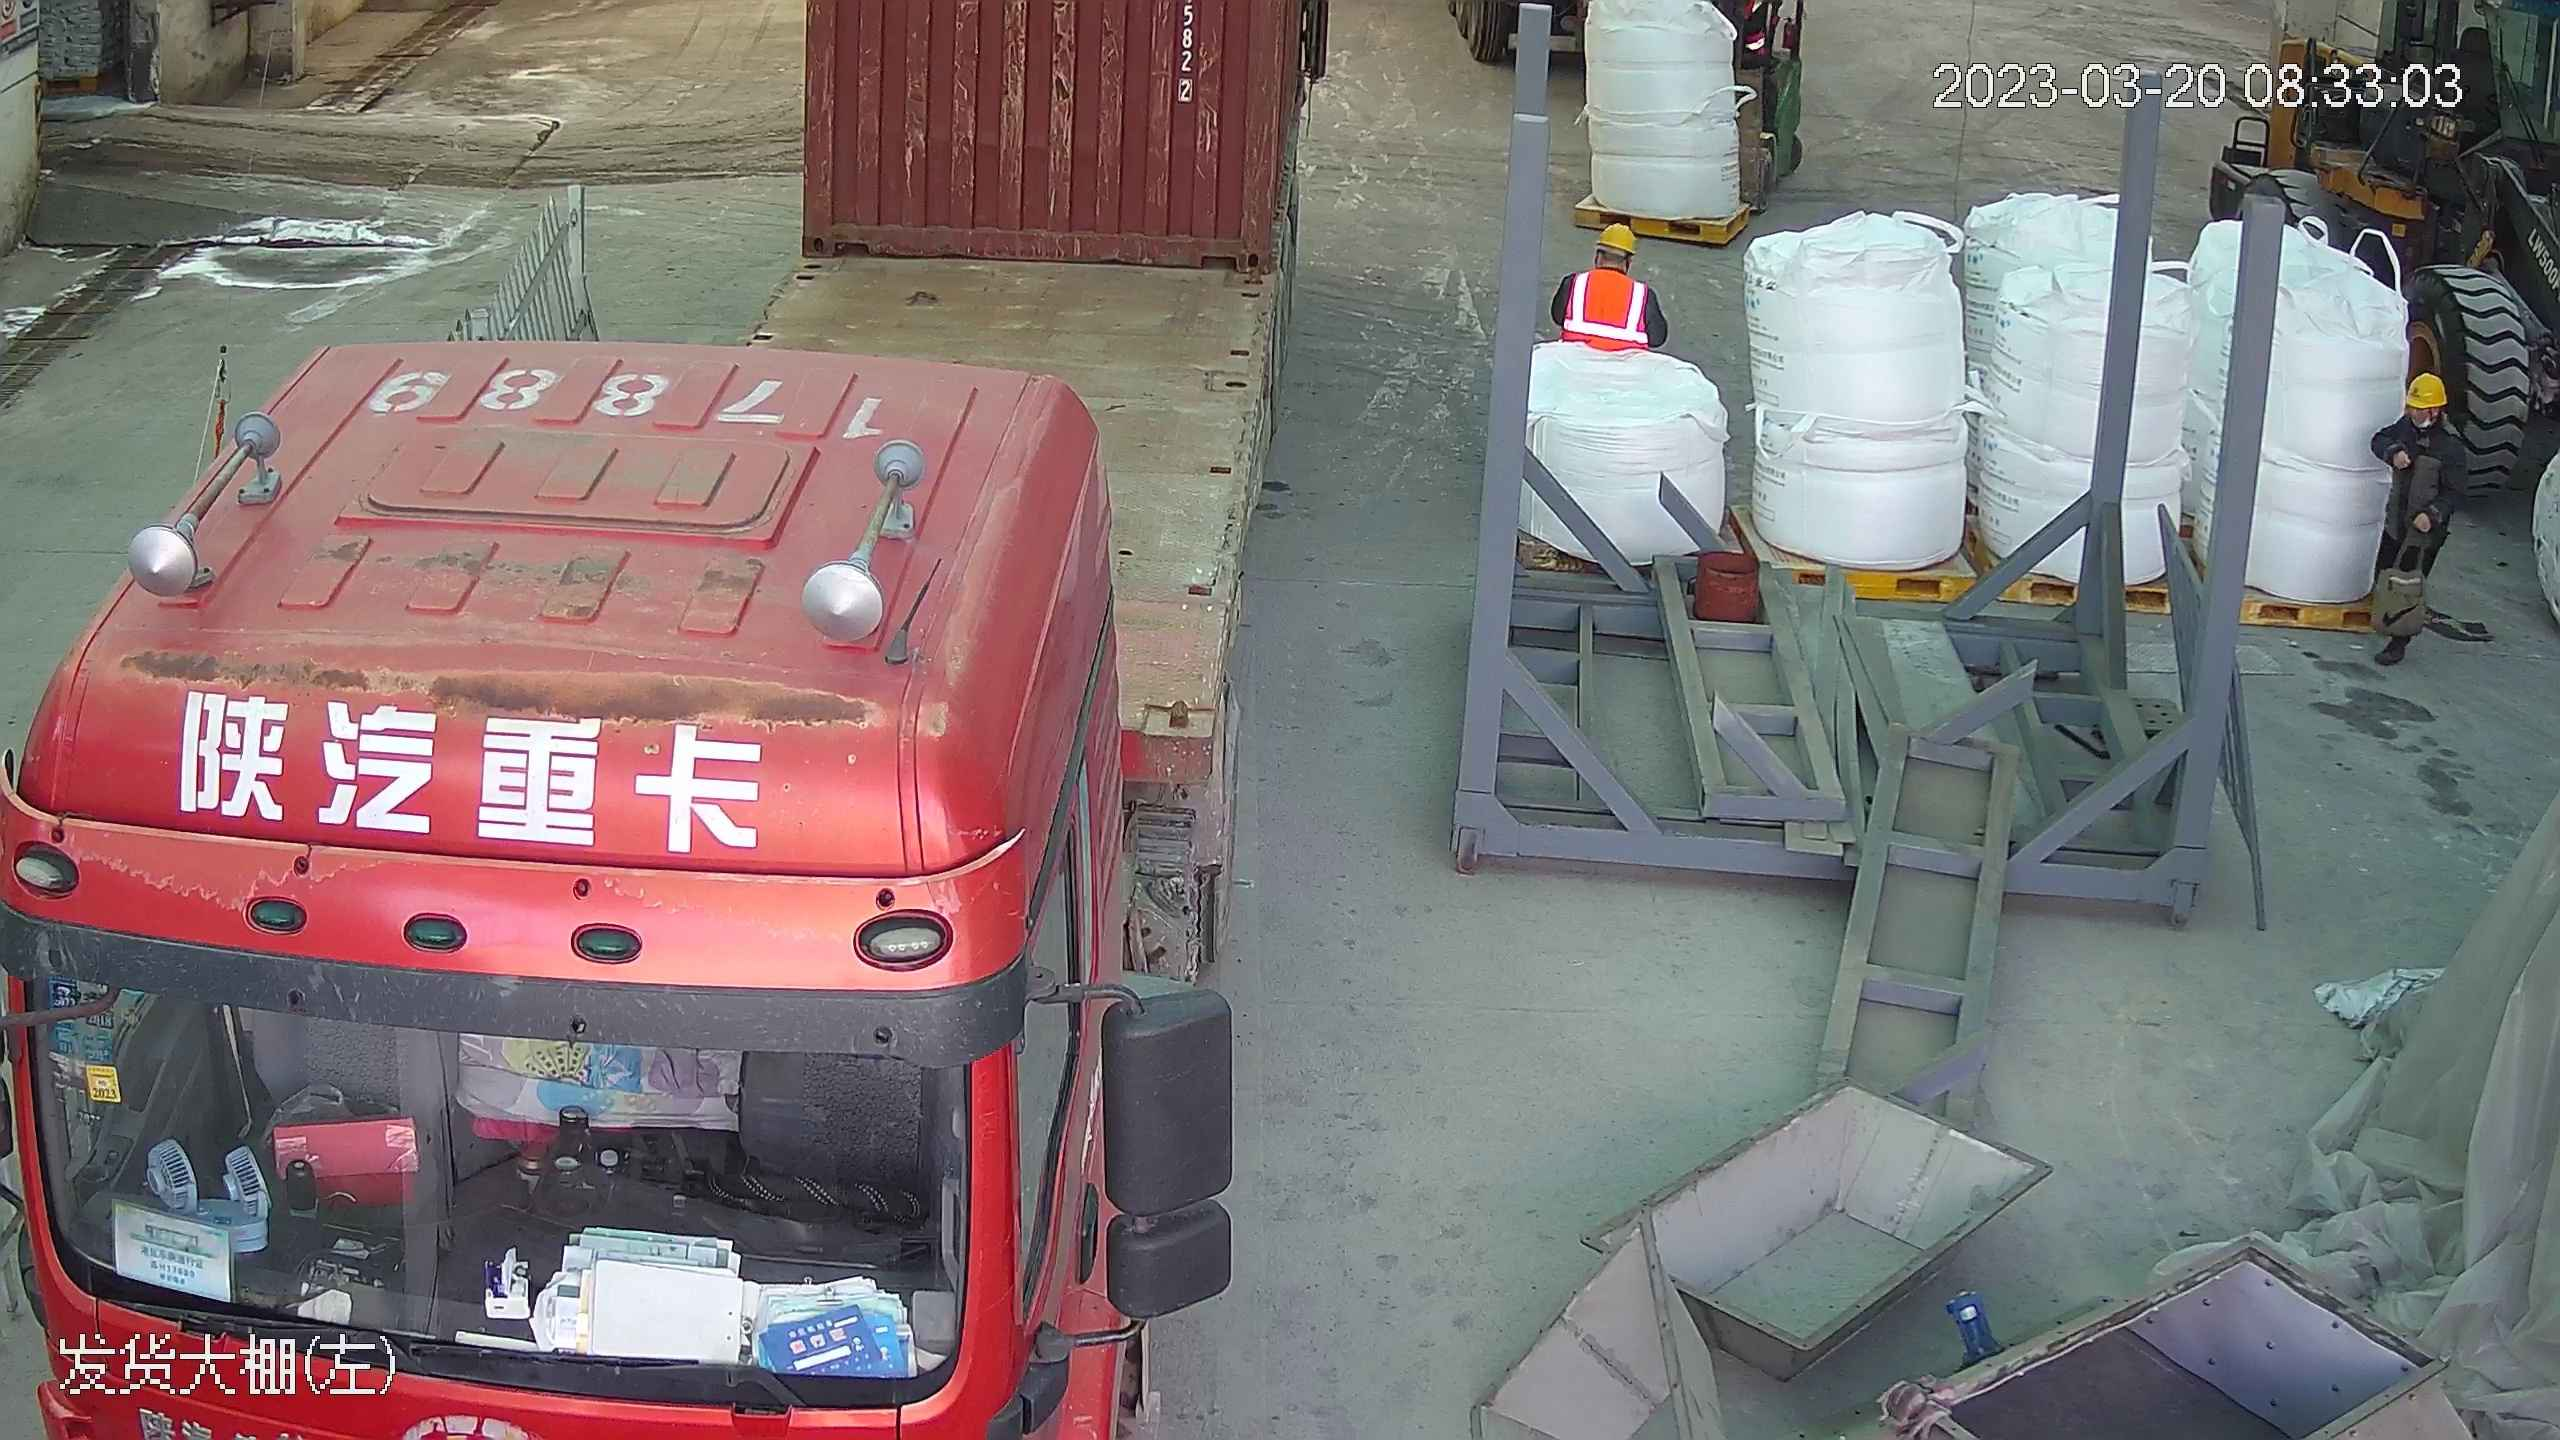head: (1569, 221, 1650, 307), (2387, 372, 2460, 464)
helmet: (2405, 372, 2447, 406), (1594, 221, 1638, 252)
people: (2366, 370, 2466, 650), (1561, 217, 1658, 370)
truck: (1, 1, 1295, 1440)
